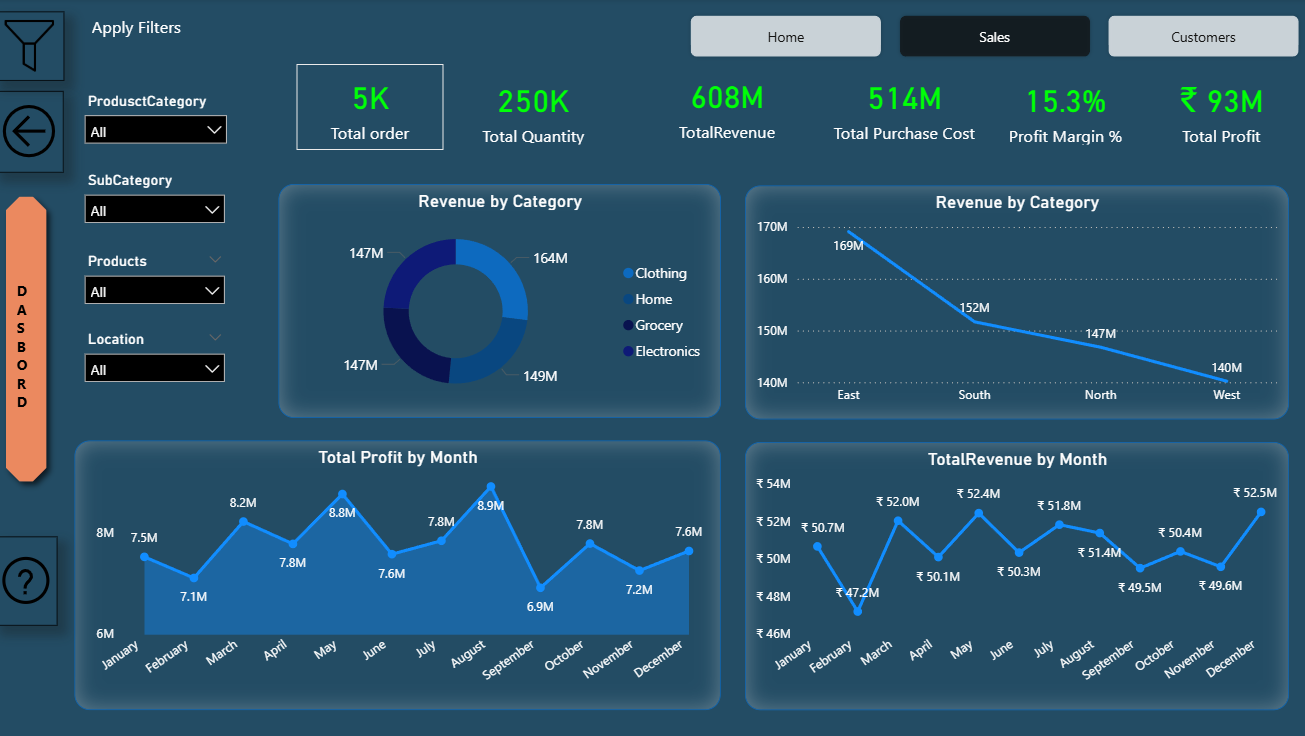

This screenshot's page, from the dashboard's own definition file:
{"tool":"powerbi","page":{"name":"Sales","canvas":[1280,720],"ordinal":1},"visuals":[{"type":"card","fields":{"Values":["Sales.Total Profit"]},"box":[1125.3,68,132.5,79.2],"z":0,"group":"g1"},{"type":"donutChart","title":"Revenue by Category","fields":{"Y":["Sum(Sales.Revenue)"],"Category":["Products.Category"]},"box":[275.5,180.8,430.1,227.4],"z":0},{"type":"slicer","fields":{"Values":["Stores.Location"]},"box":[77.3,317.9,156,78.7],"z":0,"group":"g2"},{"type":"card","fields":{"Values":["Sales.Total Purchase Cost"]},"box":[795.1,64.3,177.9,82.8],"z":1000,"group":"g1"},{"type":"slicer","fields":{"Values":["Products.Category"]},"box":[76.9,86.5,158.2,74.3],"z":1000,"group":"g2"},{"type":"lineChart","title":"Revenue by Category","fields":{"Category":["Stores.Region"],"Y":["Sum(Sales.Revenue)"]},"box":[728.7,181.7,528.6,227.6],"z":1000},{"type":"card","fields":{"Values":["Sales.TotalRevenue"]},"box":[636.9,62.5,148.3,82.8],"z":2000,"group":"g1"},{"type":"slicer","fields":{"Values":["Products.Name"]},"box":[77.3,241.9,156,76],"z":2000,"group":"g2"},{"type":"lineChart","fields":{"Category":["Sales.OrderDate.Variation.Date Hierarchy.Month"],"Y":["Sales.TotalRevenue"]},"box":[728.7,431.4,528.6,260.7],"z":2000},{"type":"image","title":"filter","box":[0,13.1,67.1,67.1],"z":3000},{"type":"card","fields":{"Values":["Sales.Total Quantity"]},"box":[435.3,68,174,79.2],"z":3000,"group":"g1"},{"type":"slicer","fields":{"Values":["Products.SubCategory"]},"box":[77.3,163.2,156,78.7],"z":3000,"group":"g2"},{"type":"textbox","box":[88.4,11.7,102,48.4],"z":3500,"group":"g2"},{"type":"card","fields":{"Values":["Customers.Total order"]},"box":[292.9,64.3,142.4,82.8],"z":4000,"group":"g1"},{"type":"areaChart","fields":{"Category":["Sales.OrderDate.Variation.Date Hierarchy.Month"],"Y":["Sales.Total Profit"]},"box":[77.2,430.7,627.8,262.1],"z":4000},{"type":"card","fields":{"Values":["Sales.Profit Margin %"]},"box":[973,68,132.5,79.2],"z":5000,"group":"g1"},{"type":"shape","box":[0,181.7,60.6,298.3],"z":5000},{"type":"group","id":"g1","title":"Group 1","box":[292.9,62.5,964.9,84.7],"z":6000},{"type":"actionButton","box":[0,90.2,66.6,79.1],"z":7000},{"type":"textbox","box":[16.2,269,31.1,152.7],"z":8000},{"type":"actionButton","box":[0,523.6,60.7,86.5],"z":9000},{"type":"group","id":"g2","title":"Slicers","box":[76.9,11.7,158.2,384.9],"z":10000},{"type":"pageNavigator","box":[671.8,13.5,601.5,48.7],"z":11000}]}

Visuals, with their boxes in screenshot pixels (x1, y1, x2, y2), scaled from the page's 1280x720 canvas onto the 1305x736 screenshot:
card - Sales.Total Profit: locate(1147, 70, 1282, 150)
"Revenue by Category" donutChart: locate(281, 185, 719, 417)
slicer - Stores.Location: locate(79, 325, 238, 405)
card - Sales.Total Purchase Cost: locate(811, 66, 992, 150)
slicer - Products.Category: locate(78, 88, 240, 164)
"Revenue by Category" lineChart: locate(743, 186, 1282, 418)
card - Sales.TotalRevenue: locate(649, 64, 801, 149)
slicer - Products.Name: locate(79, 247, 238, 325)
lineChart - Sales.OrderDate.Variation.Date Hierarchy.Month x Sales.TotalRevenue: locate(743, 441, 1282, 707)
"filter" image: locate(0, 13, 68, 82)
card - Sales.Total Quantity: locate(444, 70, 621, 150)
slicer - Products.SubCategory: locate(79, 167, 238, 247)
textbox: locate(90, 12, 194, 61)
card - Customers.Total order: locate(299, 66, 444, 150)
areaChart - Sales.OrderDate.Variation.Date Hierarchy.Month x Sales.Total Profit: locate(79, 440, 719, 708)
card - Sales.Profit Margin %: locate(992, 70, 1127, 150)
shape: locate(0, 186, 62, 491)
"Group 1" group: locate(299, 64, 1282, 150)
actionButton: locate(0, 92, 68, 173)
textbox: locate(17, 275, 48, 431)
actionButton: locate(0, 535, 62, 624)
"Slicers" group: locate(78, 12, 240, 405)
pageNavigator: locate(685, 14, 1298, 64)
